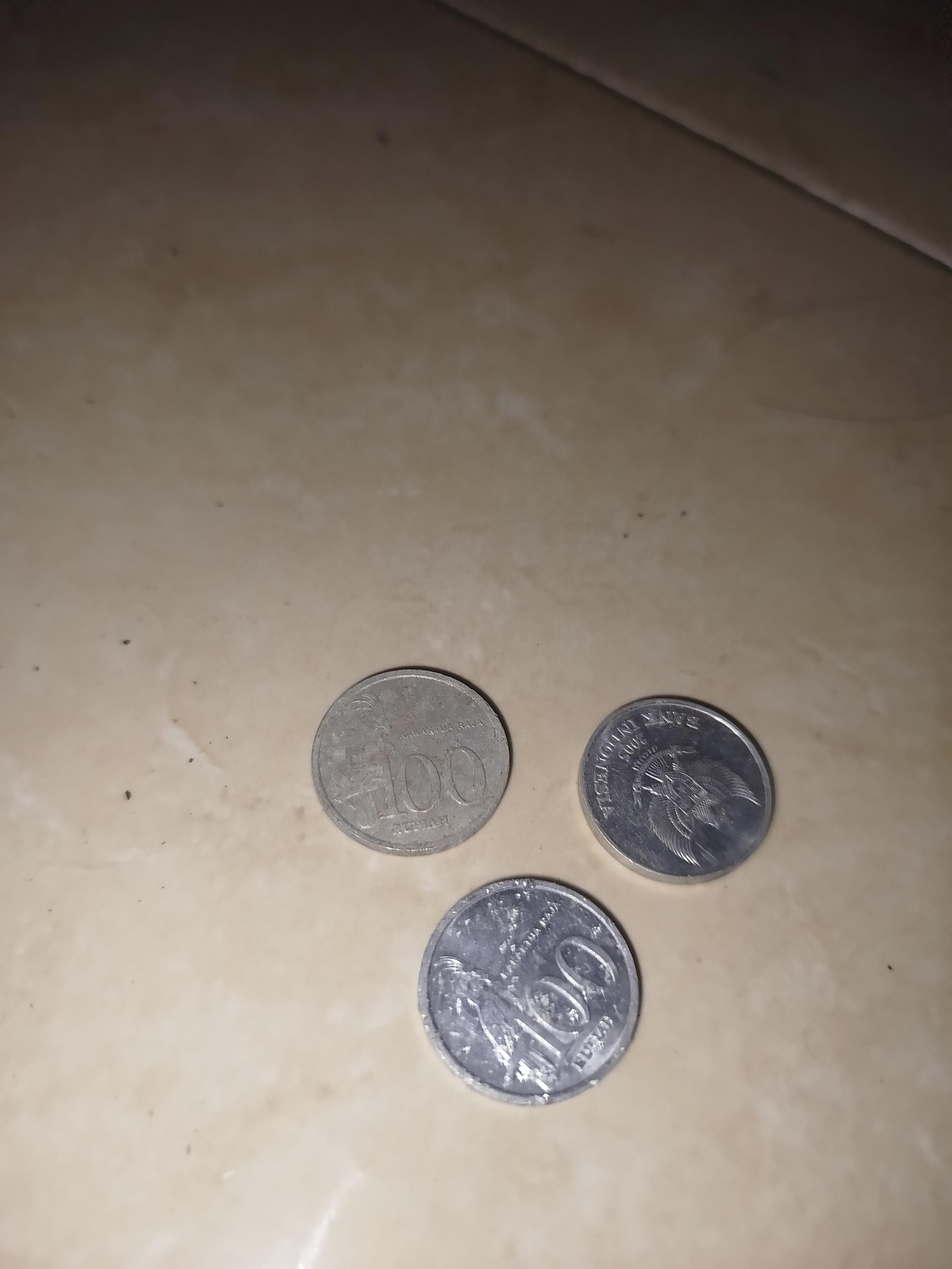coin_100_e1999: (403, 867, 661, 1105), (568, 680, 811, 884), (311, 654, 524, 866)
